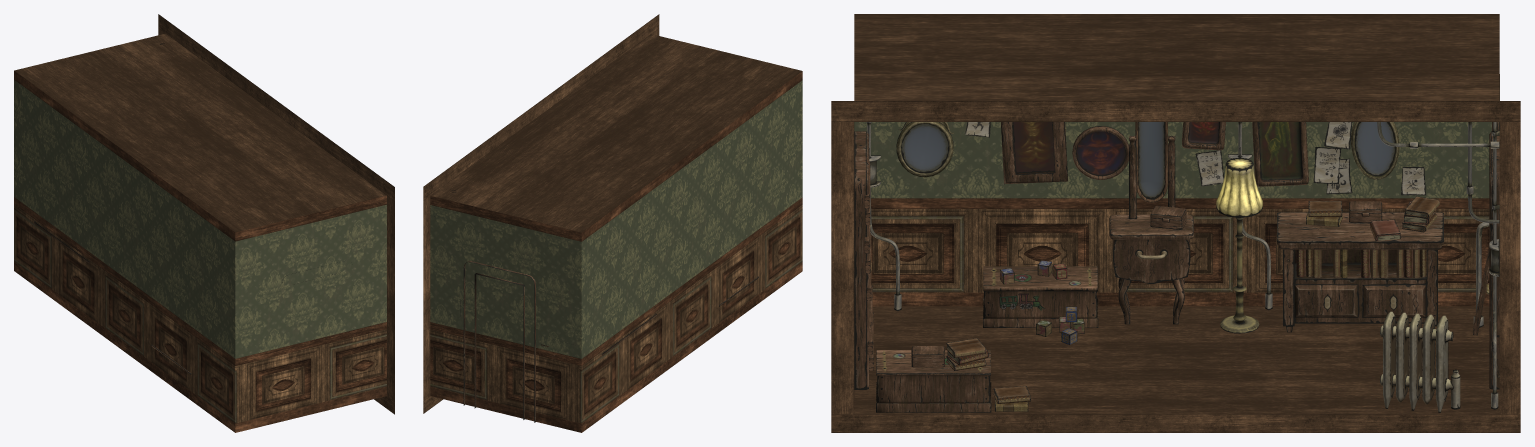
3 renders of one model, left to right at view 1: azimuth 30°, elevation 25°; view 2: azimuth 150°, elevation 25°; view 3: azimuth 270°, elevation 25°, orthographic. The views are drawn at different scales.
Parts seen in each view (by area): view 1: inst_trim_Meshes_BL_out_1, Roof_1.001, Wall_2.001; view 2: inst_trim_Meshes_BL_out_1, Roof_1.001, Wall_2.001, door_frame2; view 3: Roof_1.001, Wall_2.001, plank8, inst_trim_Meshes_BL_out_1, dresser.001, dresser, door_frame2.
Part boxes in pixels (left/top/right/bottom): inst_trim_Meshes_BL_out_1: left=14, top=80, right=386, bottom=358; Roof_1.001: left=14, top=14, right=394, bottom=414; Wall_2.001: left=14, top=70, right=386, bottom=432; inst_trim_Meshes_BL_out_1: left=430, top=80, right=802, bottom=358; Roof_1.001: left=423, top=14, right=802, bottom=413; Wall_2.001: left=430, top=71, right=802, bottom=432; door_frame2: left=463, top=261, right=758, bottom=422; Roof_1.001: left=831, top=14, right=1520, bottom=432; Wall_2.001: left=870, top=198, right=1489, bottom=306; plank8: left=864, top=74, right=1499, bottom=411; inst_trim_Meshes_BL_out_1: left=854, top=122, right=1491, bottom=198; dresser.001: left=866, top=122, right=1499, bottom=412; dresser: left=1109, top=136, right=1443, bottom=332; door_frame2: left=854, top=131, right=1499, bottom=412.
Size of the model in its own units: 2.38 by 3.41 by 6.41.
7 materials, 7 textured.
